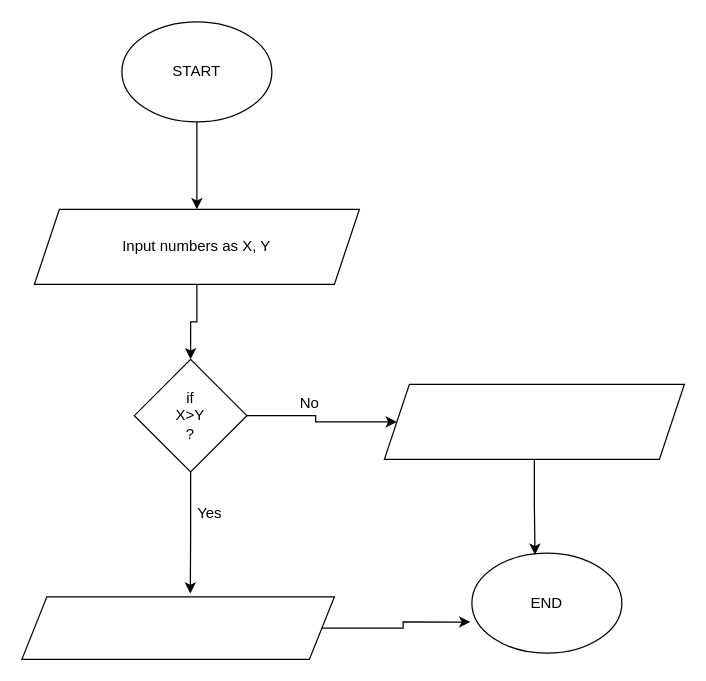
This 706x681 diagram has some shape labels left out. The box of each missing label's shape, as (x1, y1, x2, y2) in pixels:
Print "X is Largest ": (21, 596, 334, 659)
Print "Y is Largest": (383, 383, 684, 459)
